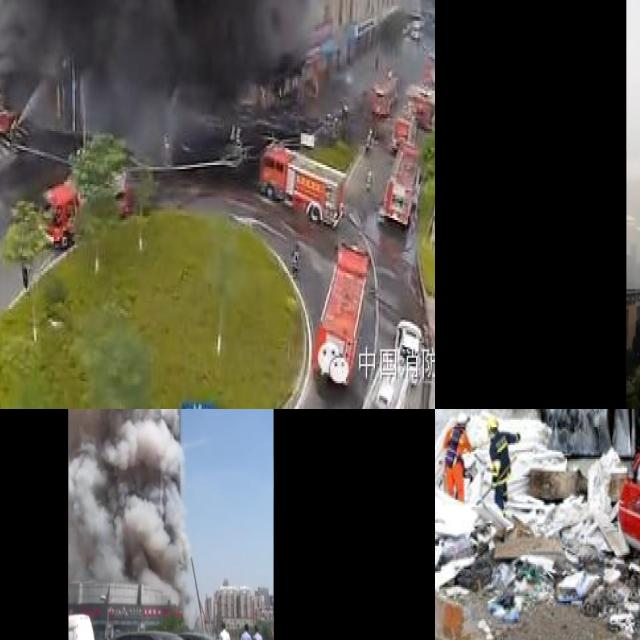smoke: (0, 0, 435, 122), (66, 409, 170, 570)
